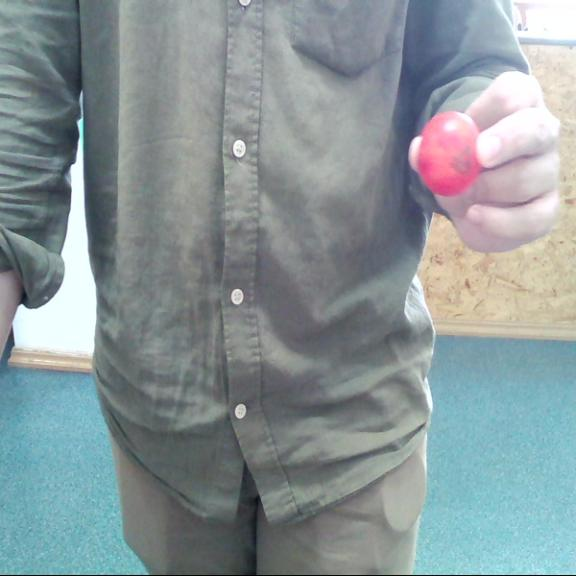ball: (419, 109, 480, 194)
